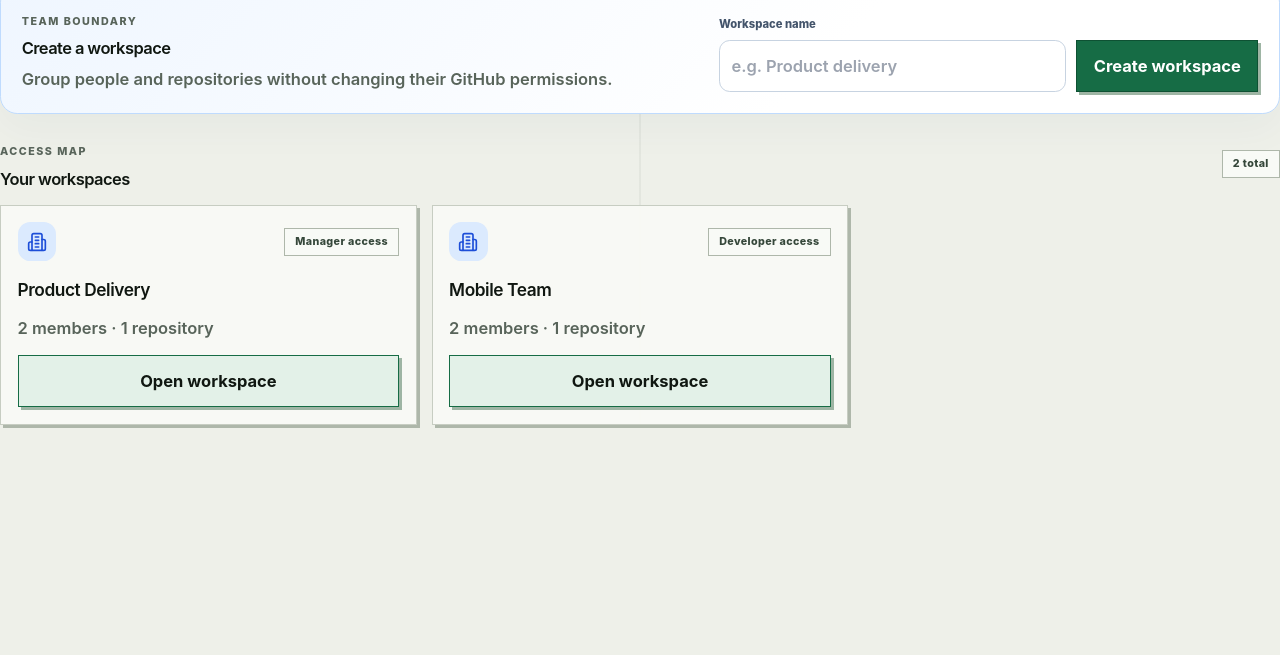
Test: workspace experience › shows role-aware workspace summaries and opens a manager command center
This screenshot has width=1280, height=655.
Expected: the text "Developer access" is shown, [708, 228, 831, 256]
Click the button with aria-label "Open Product Delivery". click: (208, 381)
box: [18, 355, 399, 407]
(page scrolled)
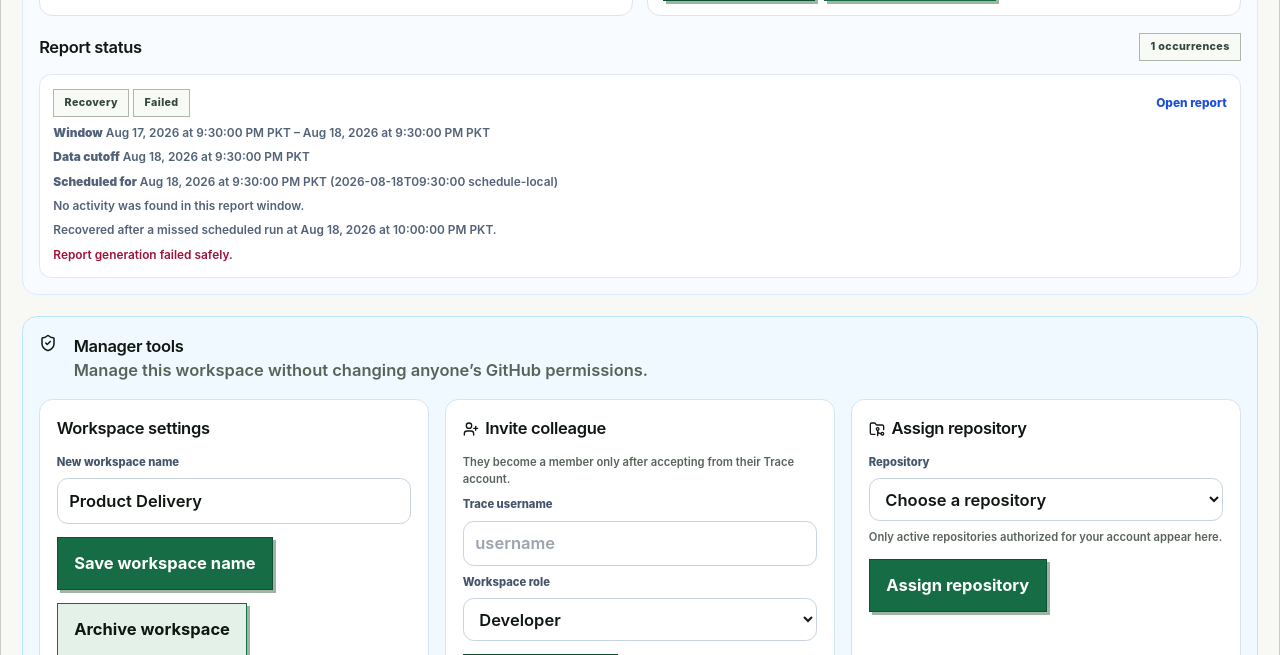
Now the heading "Manager tools" is shown, box [74, 336, 184, 356]
